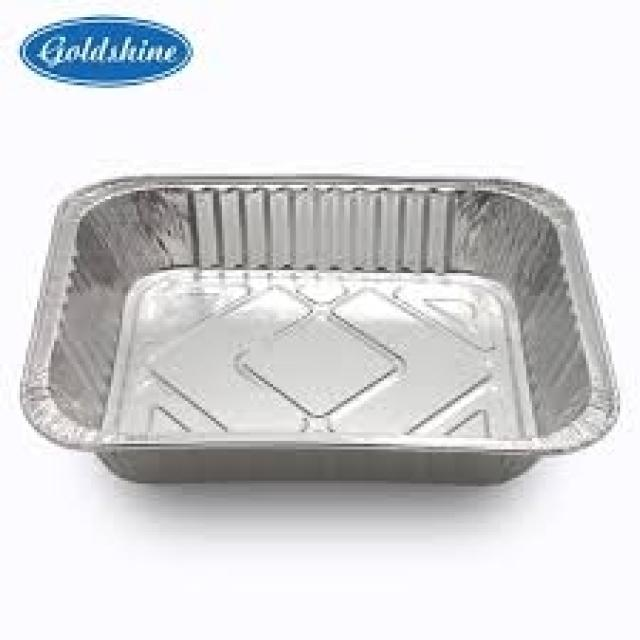kim_loai: (20, 168, 623, 489)
